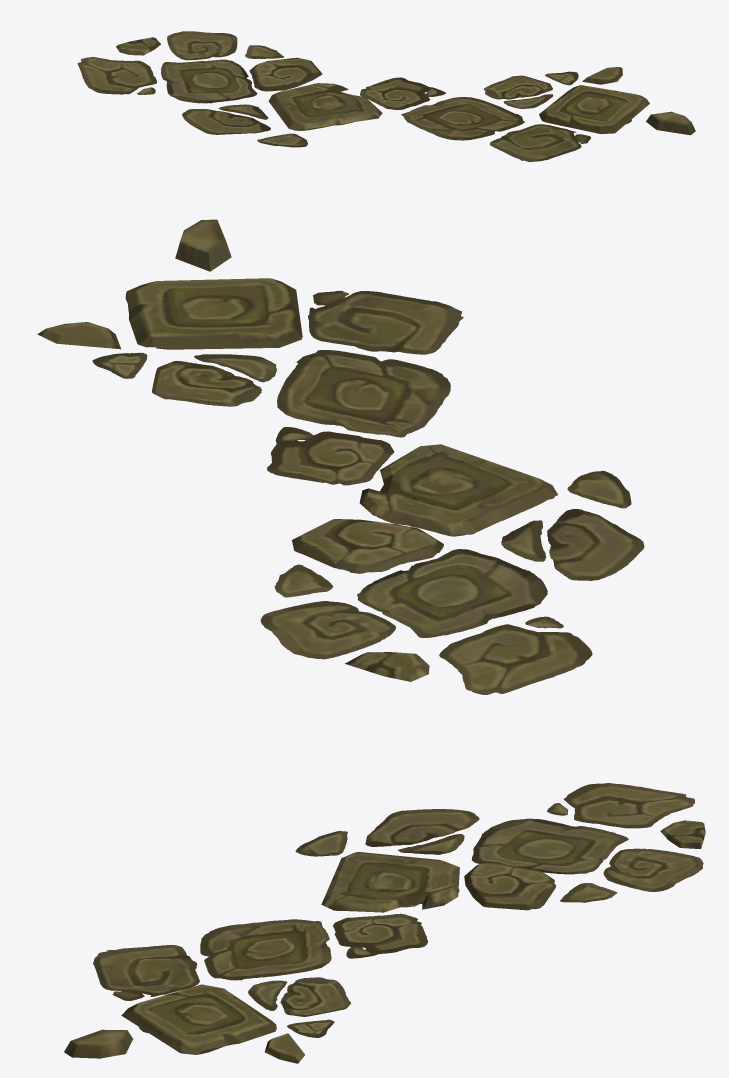
The model's file is pavers_corner_01.fbx.
The picture shows the model from 3 angles, top to bottom: view 1: azimuth 30°, elevation 25°; view 2: azimuth 150°, elevation 25°; view 3: azimuth 270°, elevation 25°; orthographic projection. The views are drawn at different scales.
Visible parts, largest first — view 1: obj0.113; view 2: obj0.113; view 3: obj0.113.
Boxes of the visible parts, x1=… form: obj0.113: x1=77, y1=31, x2=695, y2=162; obj0.113: x1=37, y1=219, x2=644, y2=694; obj0.113: x1=64, y1=783, x2=705, y2=1063.
Bounding box in the file's own units: 10.26 × 0.1729 × 9.98.
